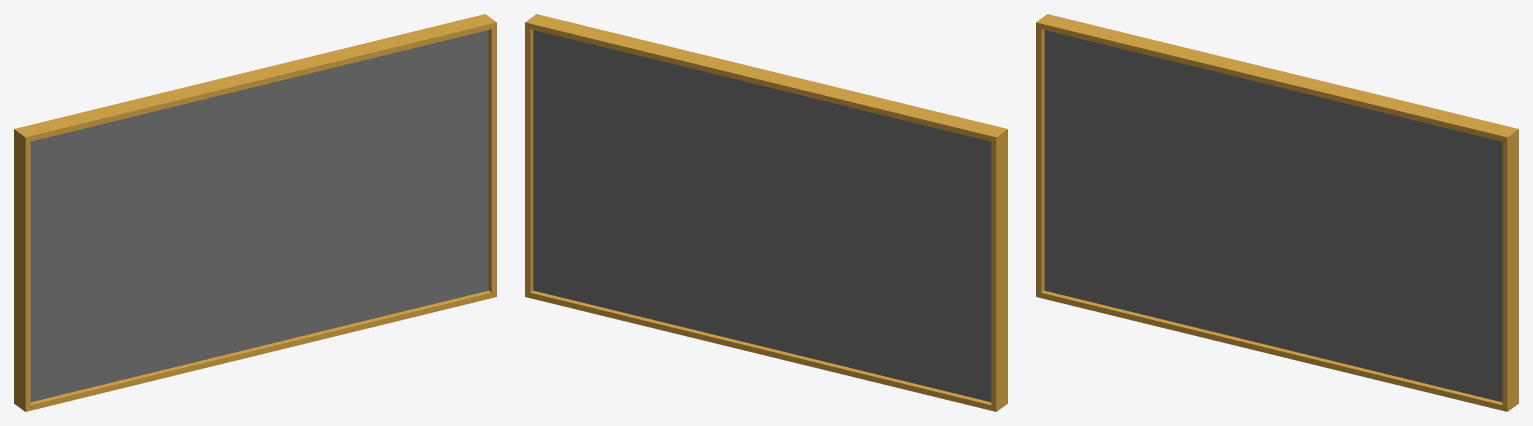
Rendered from wall mirror.fbx.
3 views of the same model, side by side, from view 1: azimuth 30°, elevation 25°; view 2: azimuth 150°, elevation 25°; view 3: azimuth 330°, elevation 25° (orthographic).
Parts seen in each view (by area): view 1: big mirror, border; view 2: big mirror, border; view 3: big mirror, border.
Part boxes in pixels (left/top/right/bottom): big mirror: left=30, top=30, right=488, bottom=402; border: left=14, top=14, right=496, bottom=411; big mirror: left=533, top=30, right=991, bottom=402; border: left=525, top=14, right=1007, bottom=411; big mirror: left=1044, top=30, right=1502, bottom=402; border: left=1036, top=14, right=1518, bottom=411.
Bounding box in the file's own units: 568 × 316 × 23.95.
